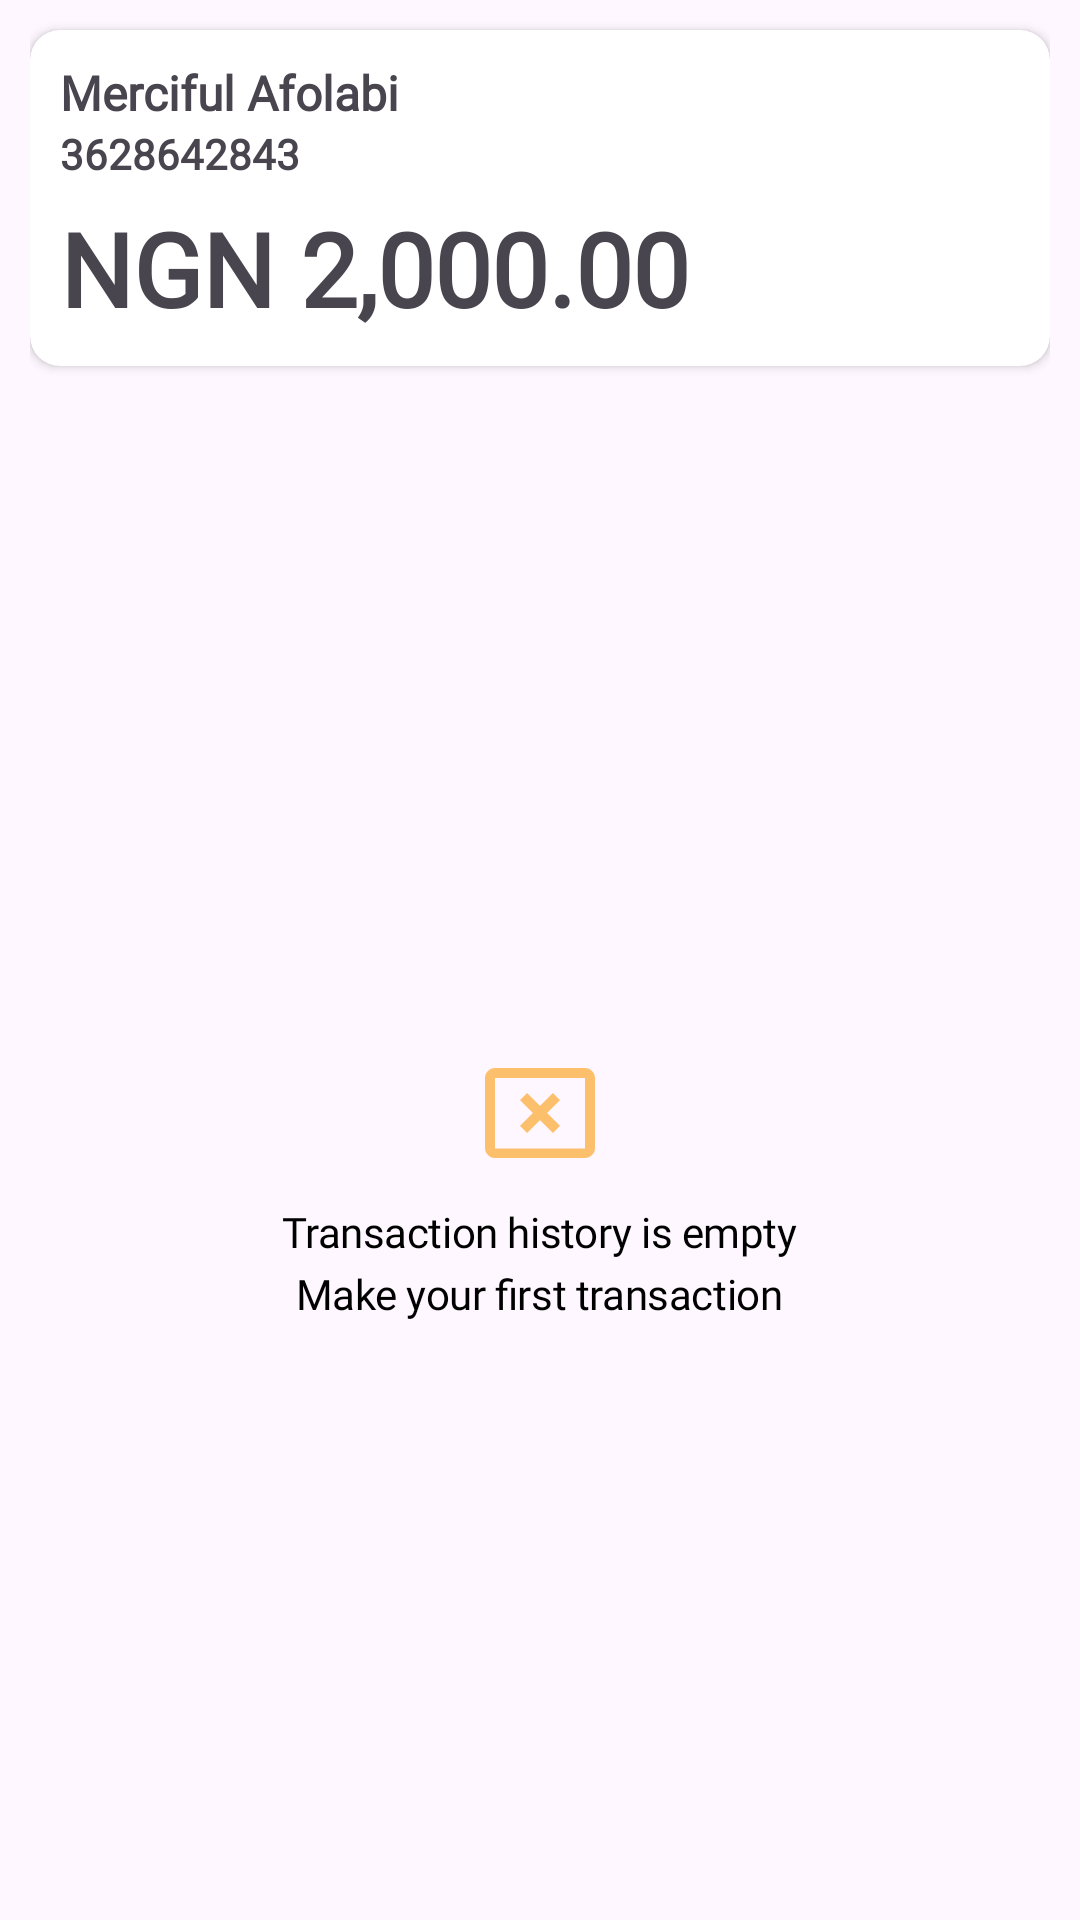

Point at icon controls on the screen. Image size 1080px x 1920px, points as (x=x, y=y).
empty state: (x=540, y=1113)
